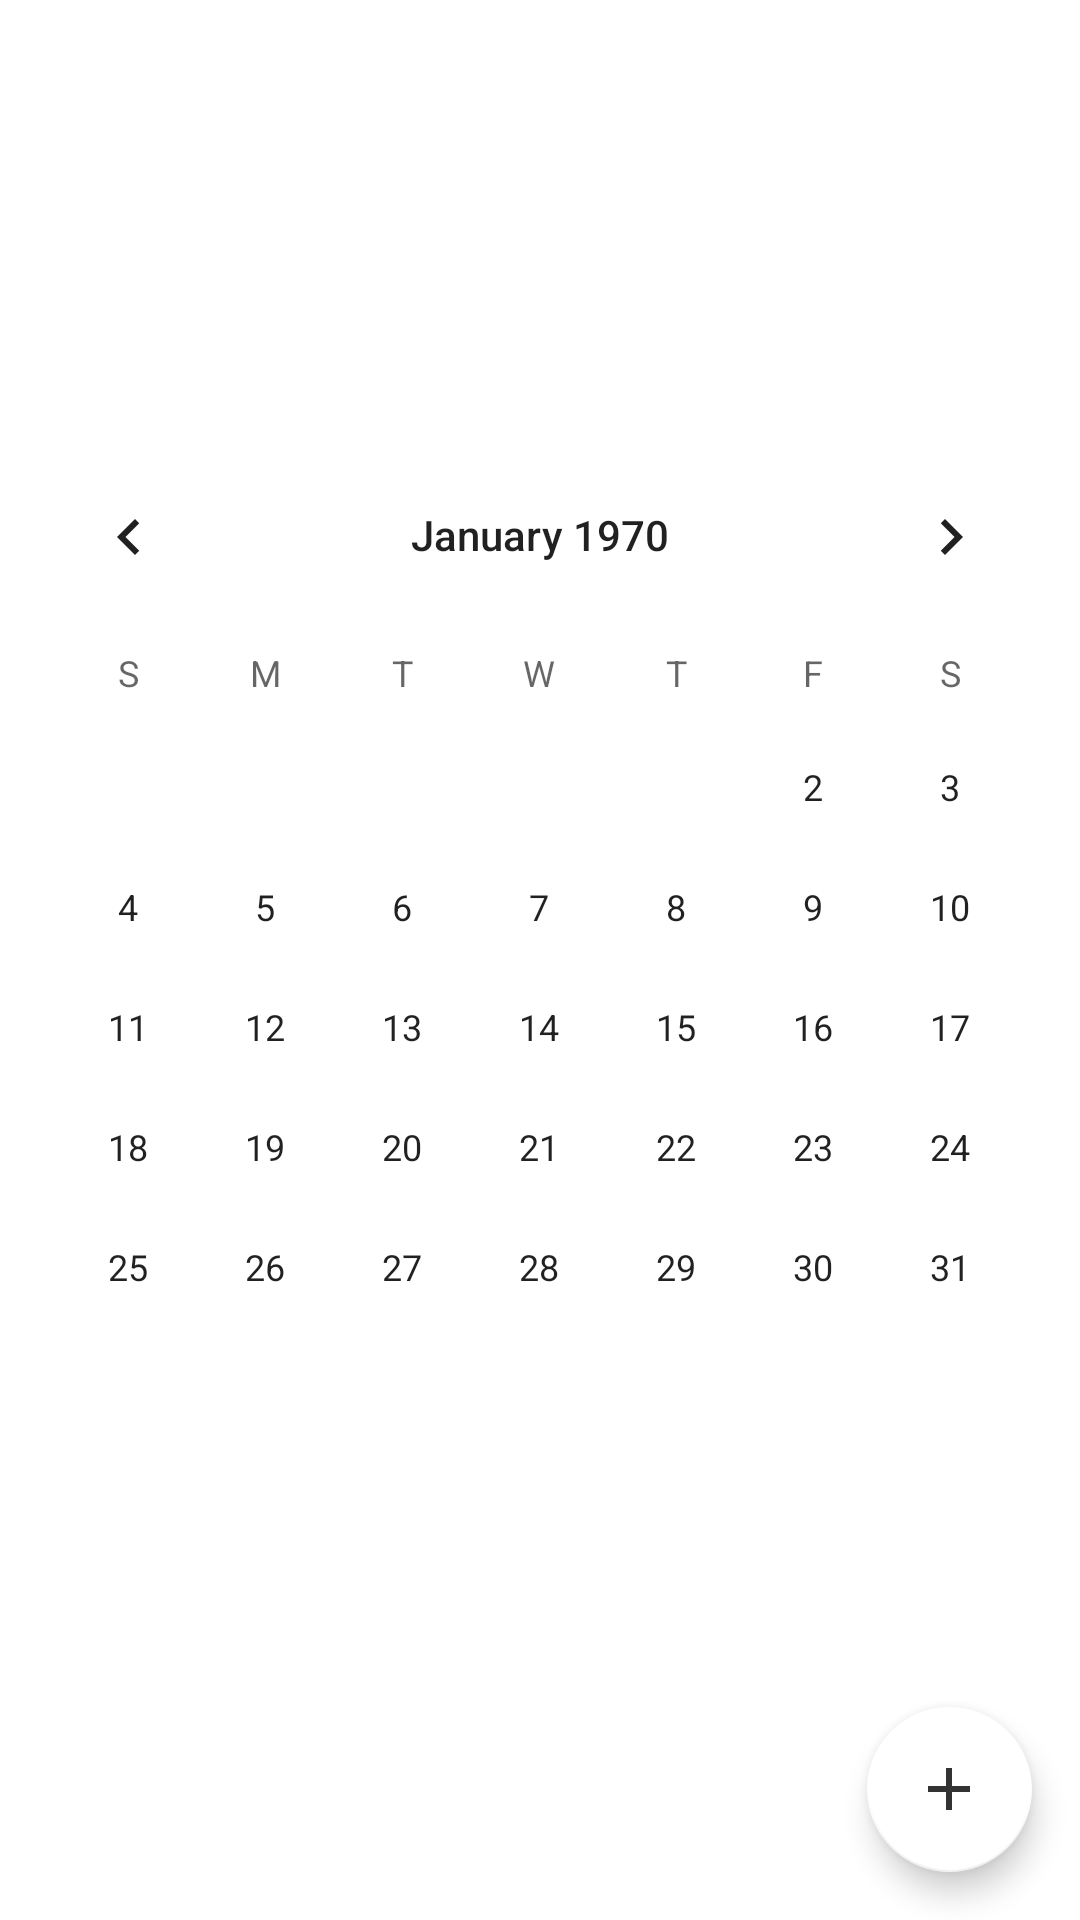

Where to tap for icons on this 1080 × 1920 app screen, as point (x, y):
plus: point (952, 1820)
